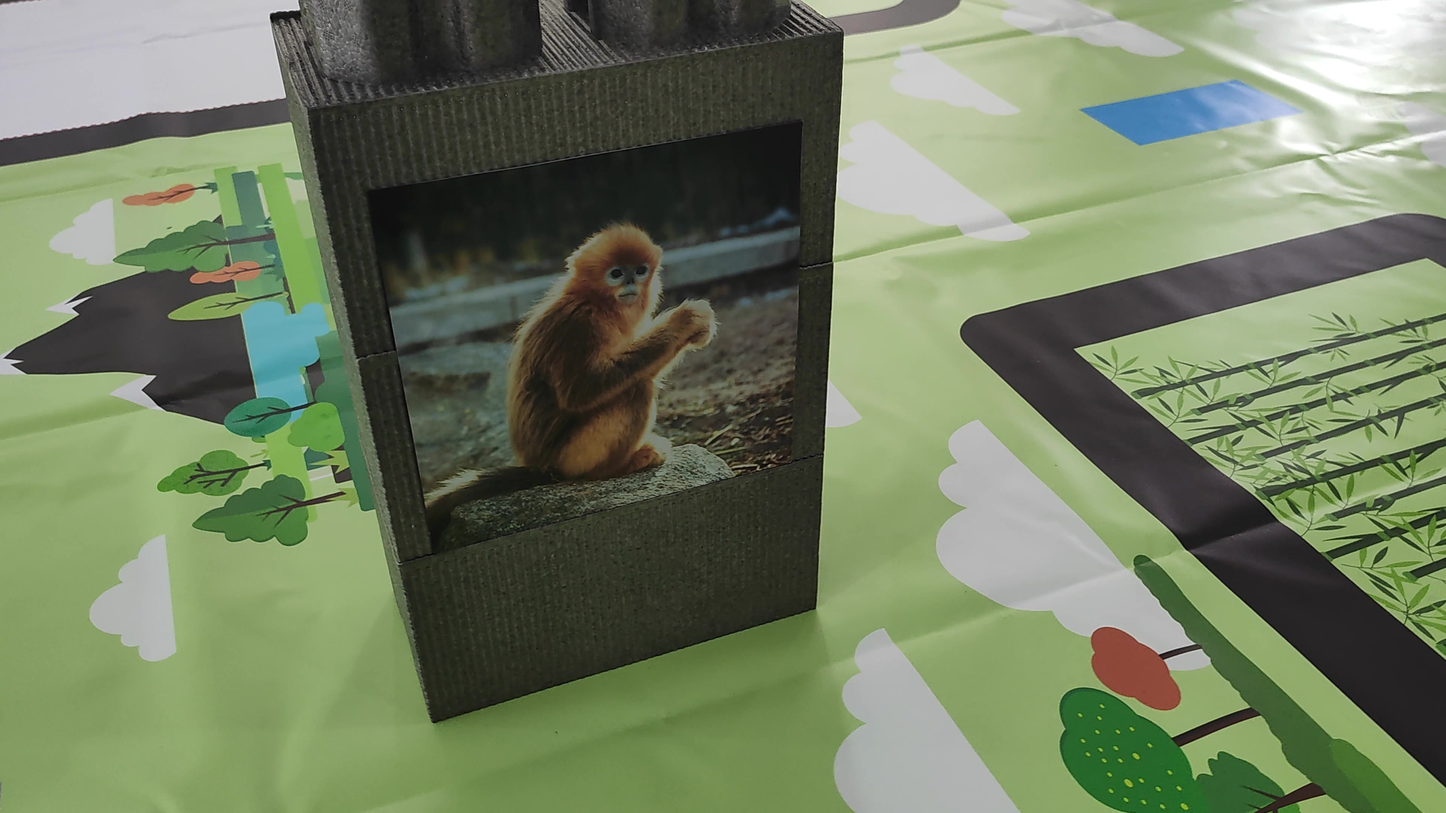monkey: (416, 201, 728, 530)
